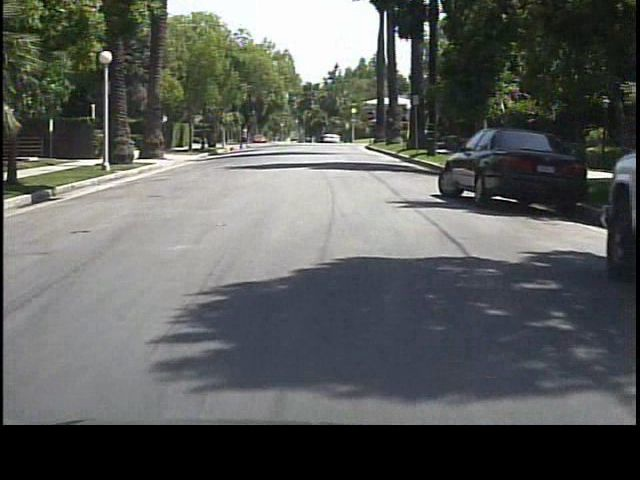person: (239, 126, 252, 154)
